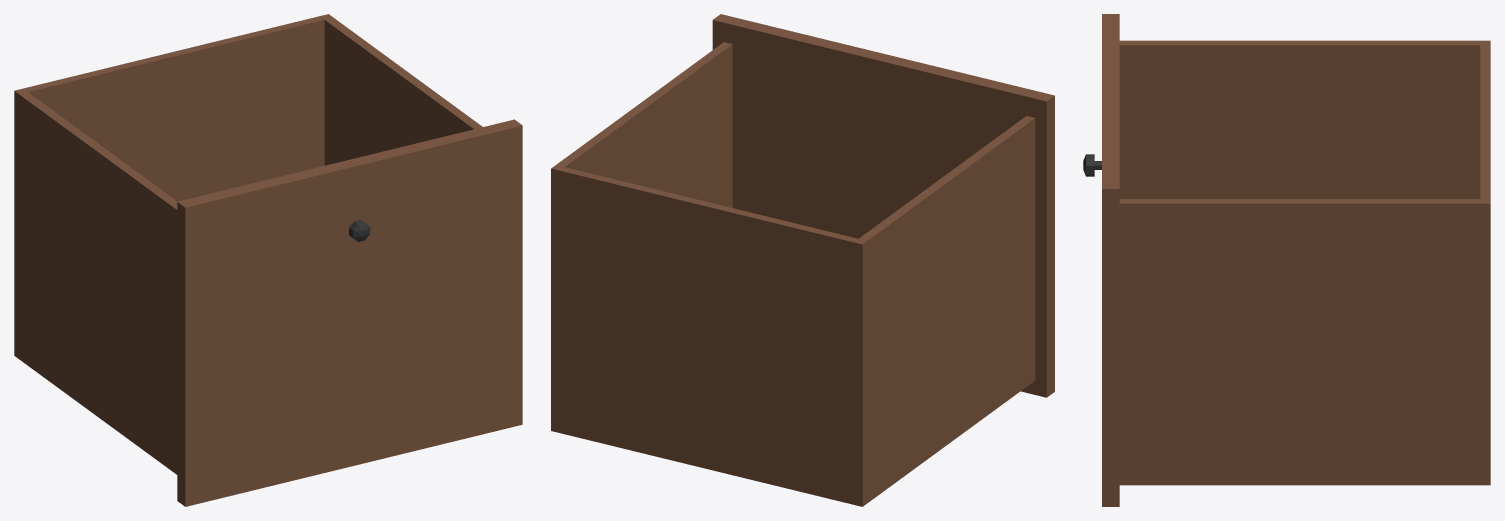
Rendered from Door3_C2_06.fbx.
3 renders of one model, left to right at view 1: azimuth 30°, elevation 25°; view 2: azimuth 150°, elevation 25°; view 3: azimuth 270°, elevation 25°, orthographic. The views are drawn at different scales.
Visible parts, largest first — view 1: Door3_C2_06; view 2: Door3_C2_06; view 3: Door3_C2_06.
Boxes of the visible parts, <box> form: Door3_C2_06: <box>14,14,522,506</box>; Door3_C2_06: <box>551,14,1054,506</box>; Door3_C2_06: <box>1083,14,1490,506</box>.
Bounding box in the file's own units: 59 × 50 × 58.03.
